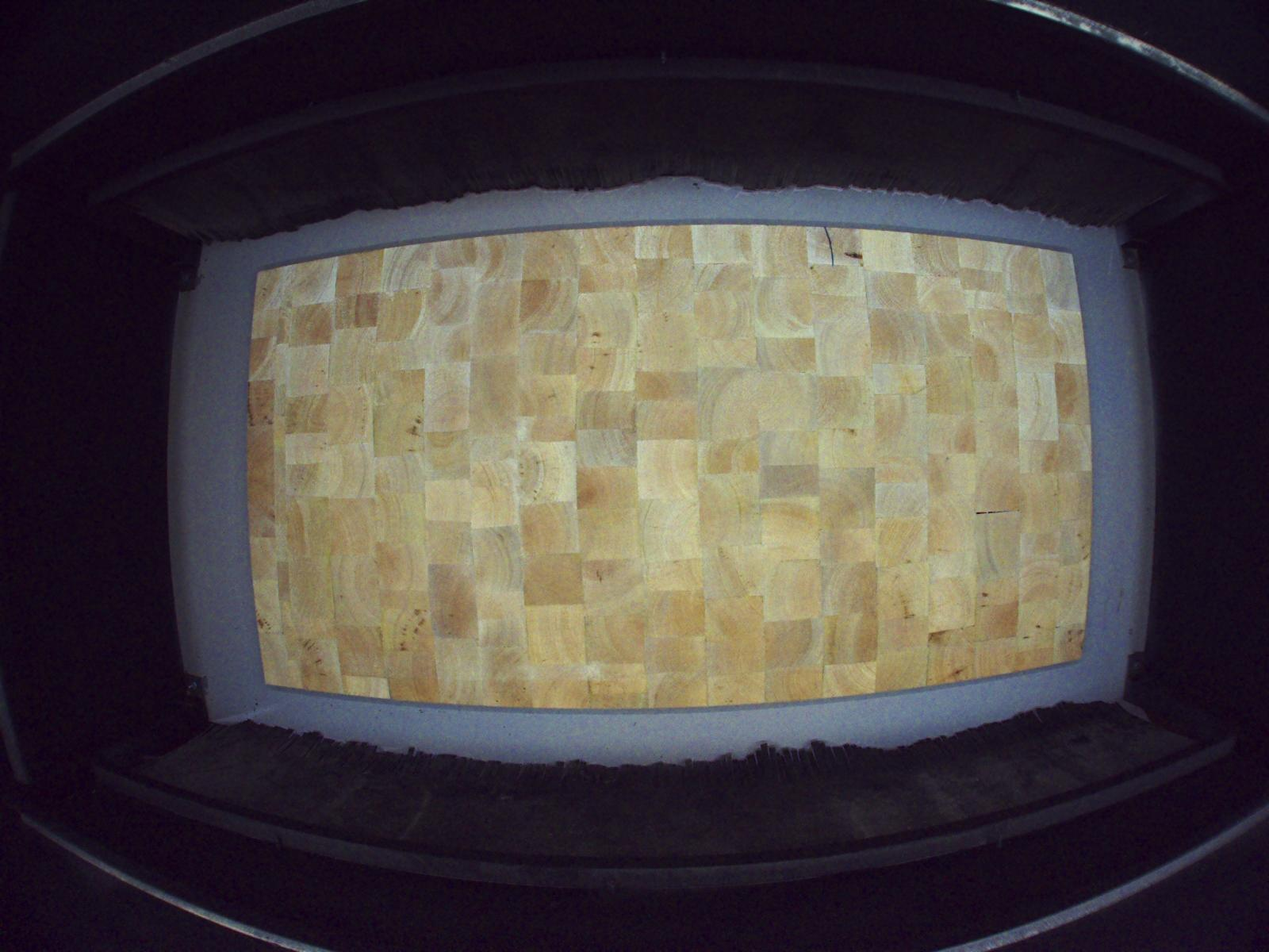nudillo: (843, 250, 863, 261)
